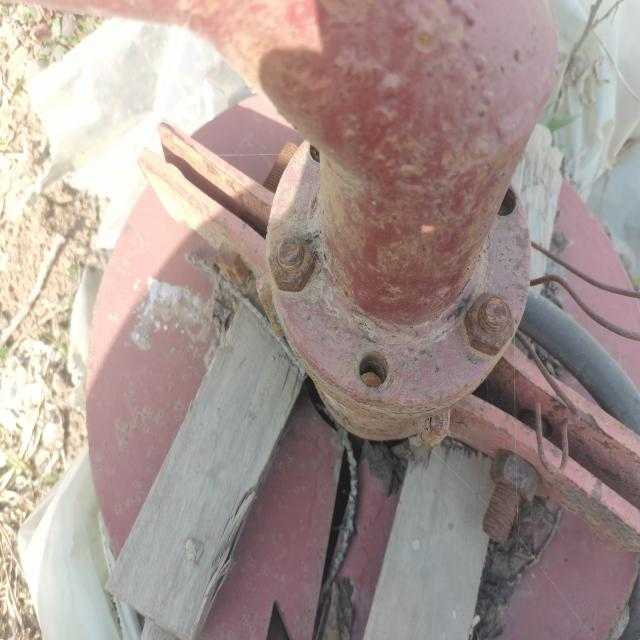bolt nut: (463, 289, 517, 358), (267, 230, 315, 293)
bolt side: (489, 447, 540, 504)
